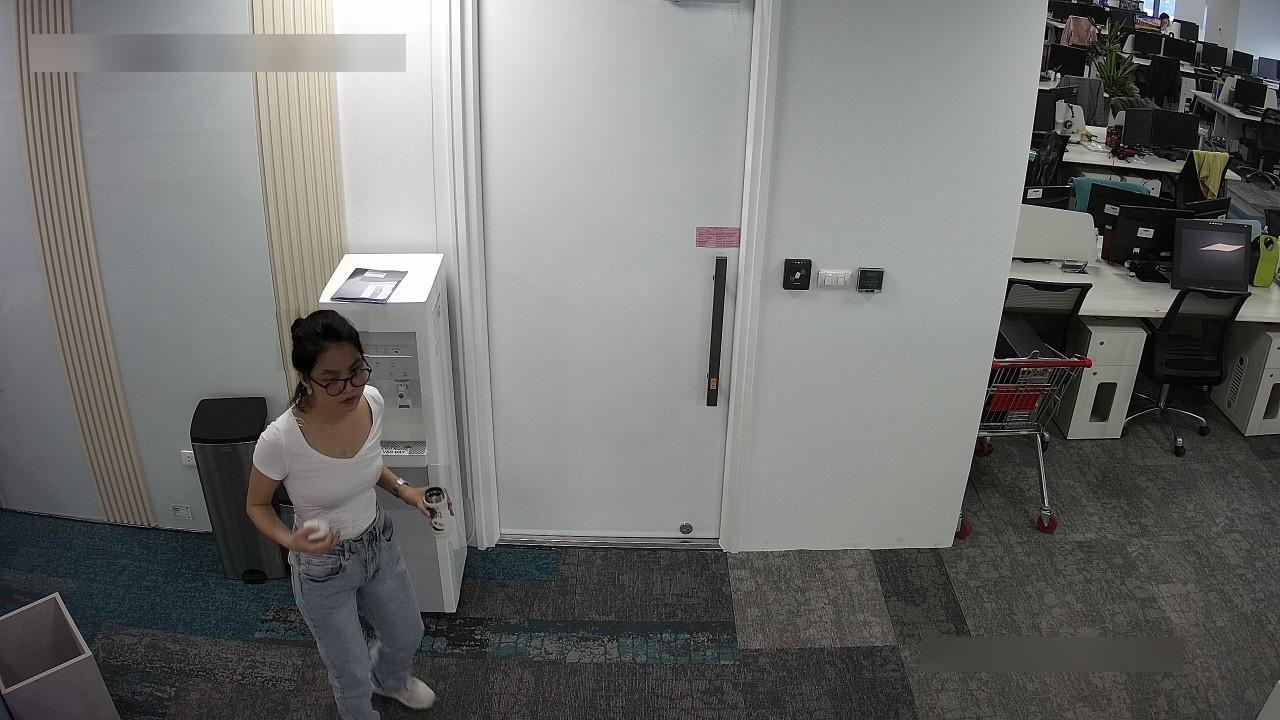no_apron: (277, 515, 353, 565), (376, 465, 452, 510)
no_gloves: (277, 310, 370, 371)
no_hairnet: (304, 339, 374, 416)
